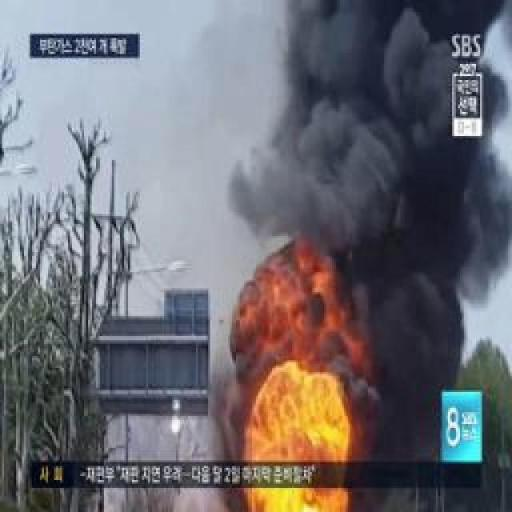smoke: (242, 378, 346, 466), (242, 492, 352, 512)
